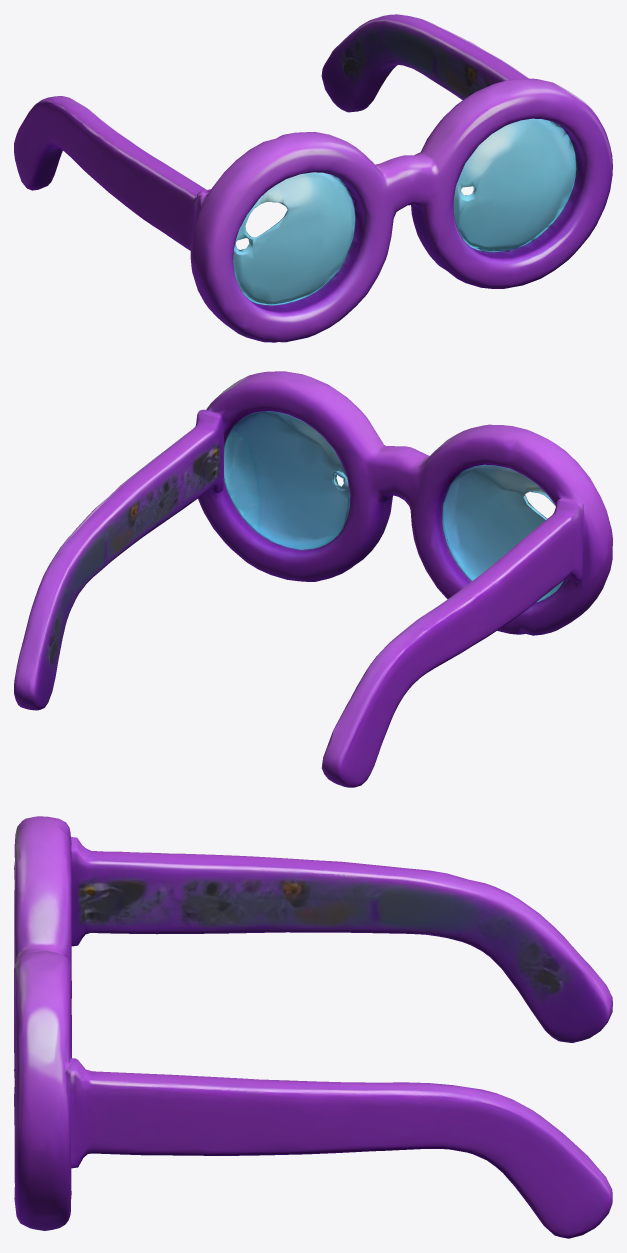
The model's file is glasses-round.glb.
3 renders of one model, top to bottom at view 1: azimuth 30°, elevation 25°; view 2: azimuth 150°, elevation 25°; view 3: azimuth 270°, elevation 25°, orthographic. The views are drawn at different scales.
Parts seen in each view (by area): view 1: tripo_node_324697f8-a266-4986-a753-49e664d08e99; view 2: tripo_node_324697f8-a266-4986-a753-49e664d08e99; view 3: tripo_node_324697f8-a266-4986-a753-49e664d08e99.
Boxes of the visible parts, x1,y1,x2,y2 form: tripo_node_324697f8-a266-4986-a753-49e664d08e99: [14, 14, 612, 342]; tripo_node_324697f8-a266-4986-a753-49e664d08e99: [14, 371, 612, 787]; tripo_node_324697f8-a266-4986-a753-49e664d08e99: [14, 816, 612, 1238].
Bounding box in the file's own units: 1 × 0.4591 × 0.9955.
1 material, 1 textured.
